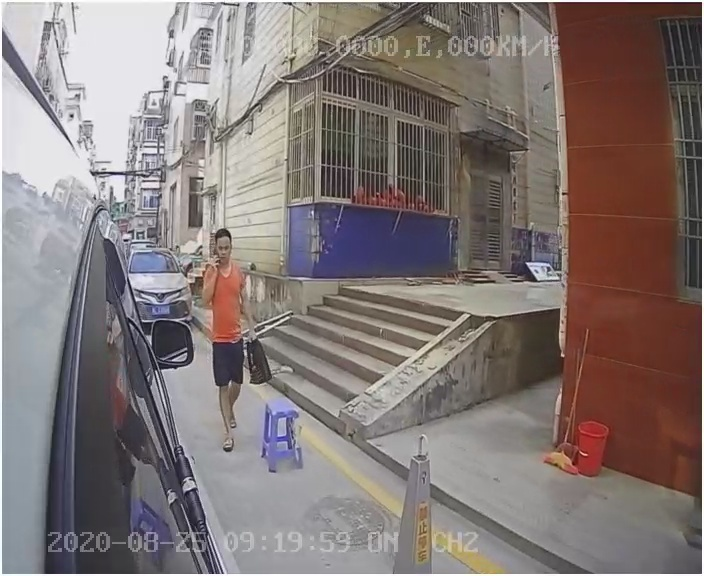person: (192, 231, 265, 457)
